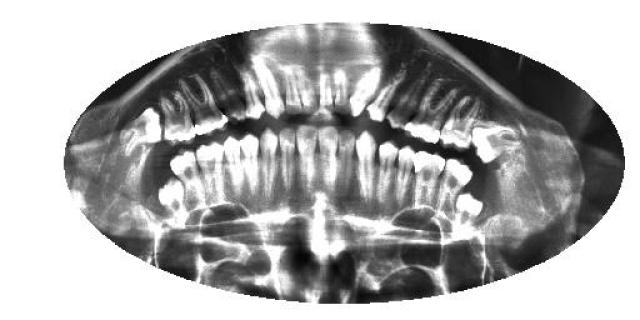Restorations: (117, 106, 165, 158), (470, 124, 521, 164), (156, 178, 188, 220), (454, 190, 484, 229)
